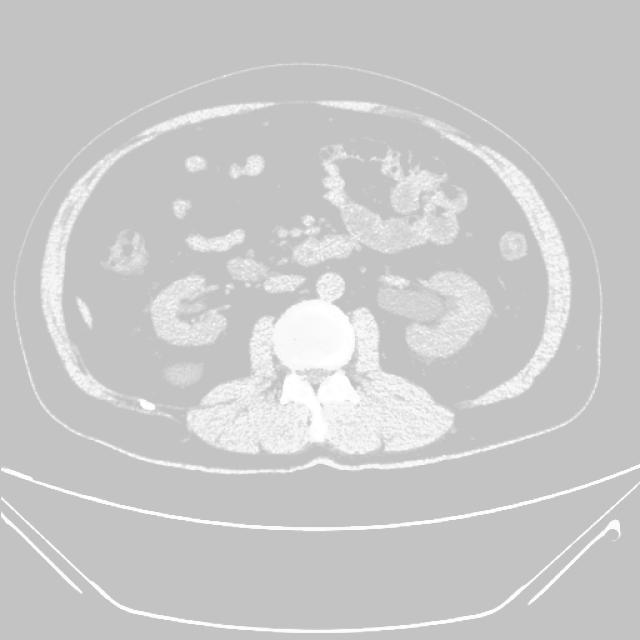cysts: (37, 90, 582, 469)
